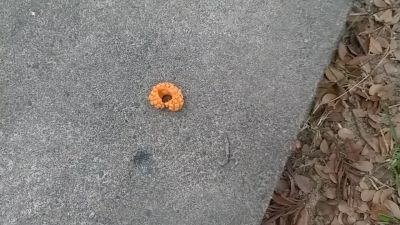eggs: (148, 82, 186, 112)
